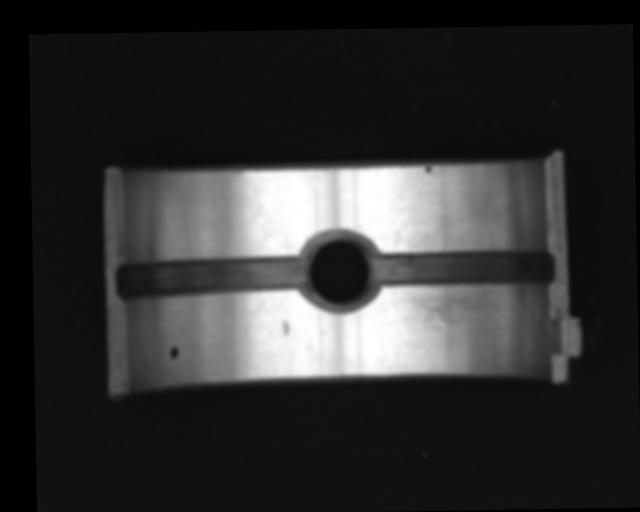blot: (170, 344, 178, 359), (424, 164, 434, 175)
bruise: (282, 318, 289, 337)
gap: (114, 255, 309, 301), (370, 248, 555, 289)
hole: (300, 228, 378, 315)
scratch: (389, 288, 505, 327)
